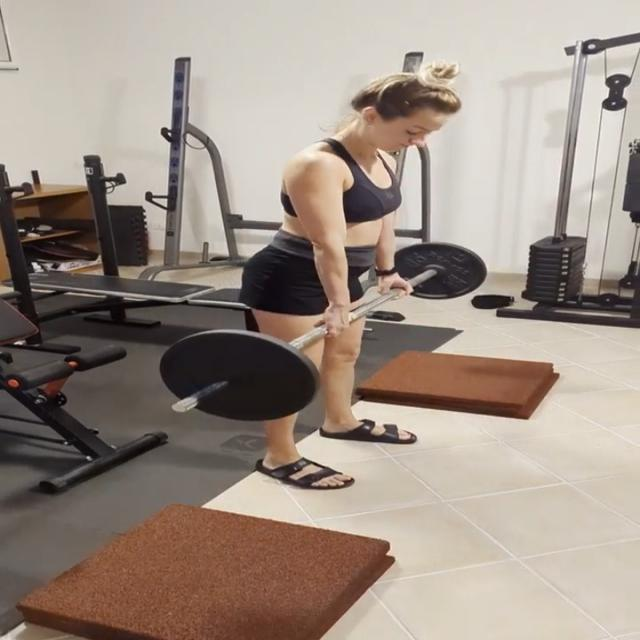barbell: (155, 328, 326, 425)
